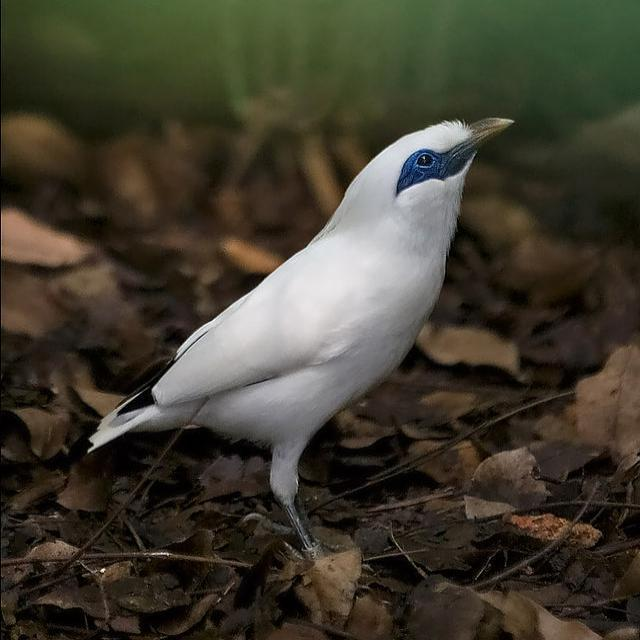Jalak Bali: (69, 85, 530, 608)
